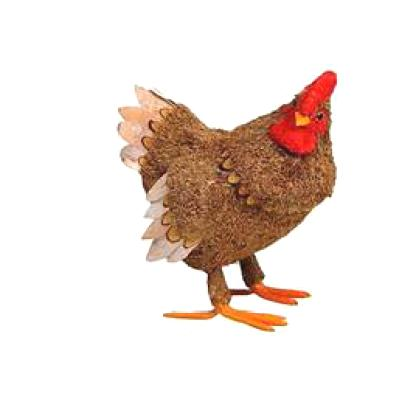chicken: (118, 73, 337, 334)
